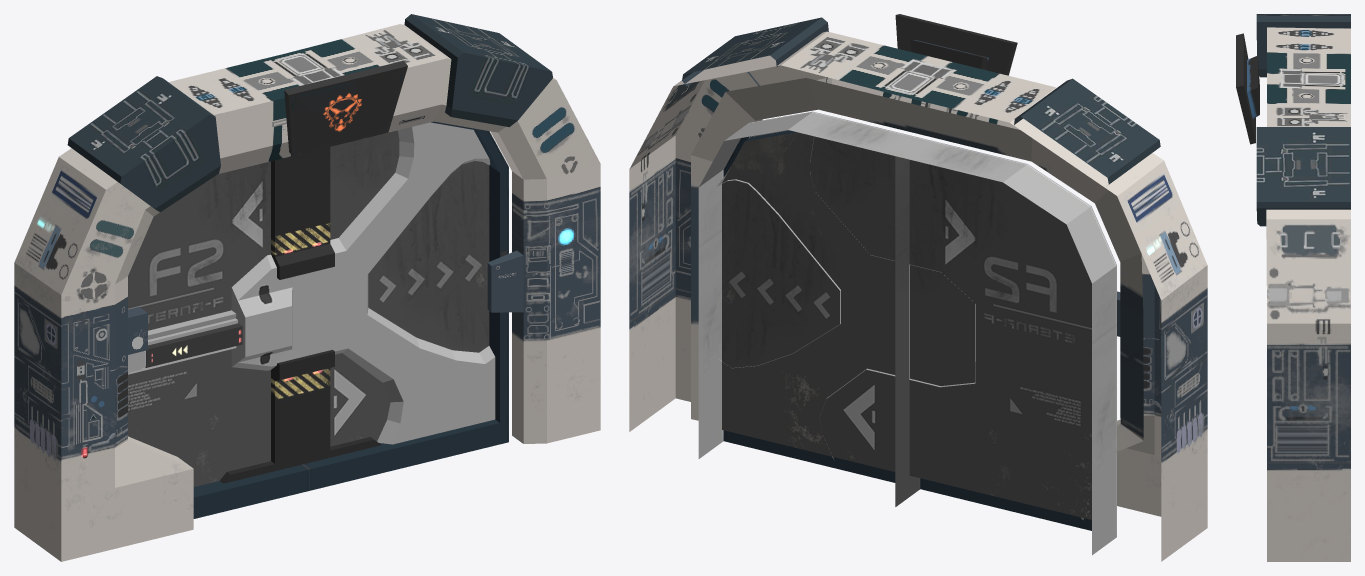
3 renders of one model, left to right at view 1: azimuth 30°, elevation 25°; view 2: azimuth 150°, elevation 25°; view 3: azimuth 270°, elevation 25°, orthographic. The views are drawn at different scales.
Parts seen in each view (by area): view 1: Object008_pillar_0, Object008_DOOR_0, Object008_LOCK1_0, Object008_lock02_0, Object008_emissive_0; view 2: Object008_DOOR_0, Object008_pillar_0, Object008_LOCK1_0, Object008_emissive_0; view 3: Object008_pillar_0, Object008_LOCK1_0, Object008_emissive_0.
Boxes of the visible parts, <box> form: Object008_pillar_0: <box>14,24,600,561</box>; Object008_DOOR_0: <box>128,121,508,518</box>; Object008_LOCK1_0: <box>67,14,552,444</box>; Object008_lock02_0: <box>220,147,381,483</box>; Object008_emissive_0: <box>284,60,407,155</box>; Object008_DOOR_0: <box>698,111,1116,555</box>; Object008_pillar_0: <box>629,31,1207,561</box>; Object008_LOCK1_0: <box>682,17,1160,458</box>; Object008_emissive_0: <box>895,14,1017,75</box>; Object008_pillar_0: <box>1266,27,1350,561</box>; Object008_LOCK1_0: <box>1256,14,1350,226</box>; Object008_emissive_0: <box>1236,33,1259,144</box>.
Bounding box in the file's own units: 197 × 154 × 40.63.
5 materials, 5 textured.
